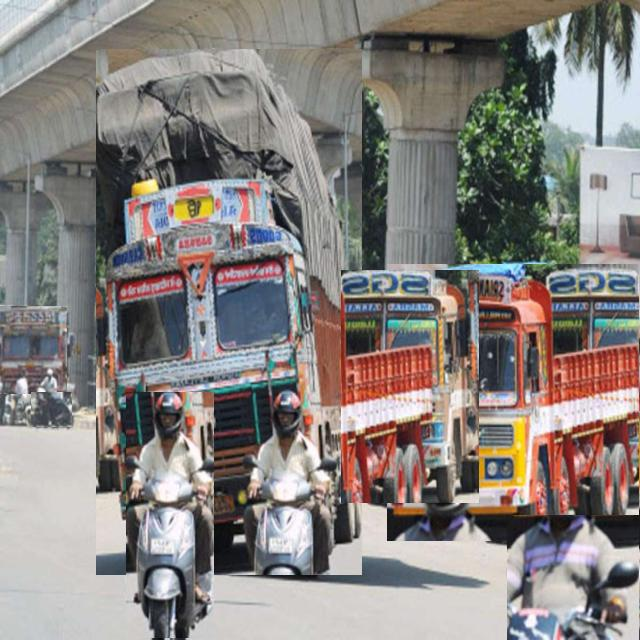motorcycle: (126, 392, 214, 638), (508, 515, 639, 640), (4, 370, 34, 425), (31, 393, 72, 427)
truck: (96, 50, 362, 575), (388, 265, 639, 541), (341, 270, 479, 503), (0, 306, 67, 394)
